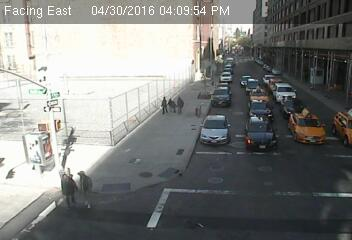neg: (29, 83, 58, 122), (3, 127, 31, 164), (46, 125, 71, 159), (43, 142, 64, 171), (113, 95, 131, 119), (125, 105, 142, 128), (198, 65, 214, 86), (184, 102, 199, 122)
pos: (69, 170, 99, 209), (53, 172, 80, 208), (172, 95, 187, 115), (156, 95, 171, 115)
